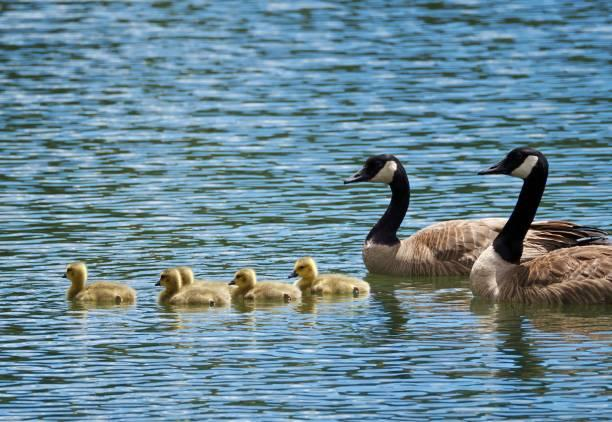Canadian-Goose: (476, 141, 612, 308), (340, 153, 475, 278), (291, 261, 375, 303), (61, 263, 138, 307), (153, 270, 225, 313), (225, 268, 290, 308)
